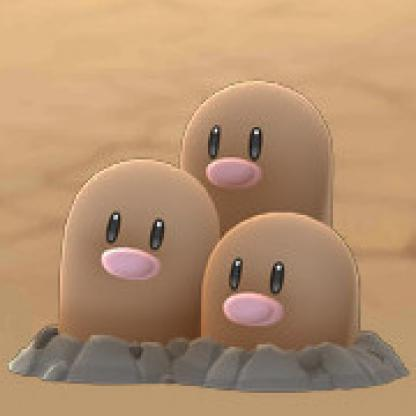Dugtrio: (29, 69, 405, 392)
